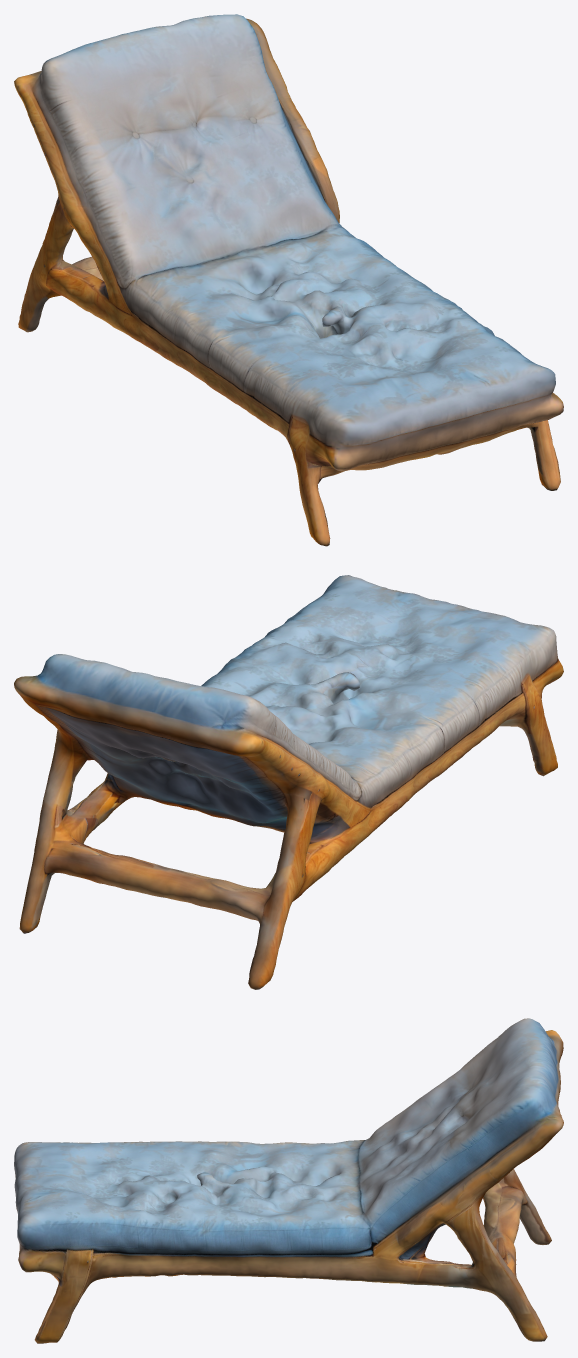
Rendered from a_beautiful_calm_sun_lounger_0714051525_refine.glb.
3 renders of one model, top to bottom at view 1: azimuth 30°, elevation 25°; view 2: azimuth 150°, elevation 25°; view 3: azimuth 270°, elevation 25°, orthographic. The views are drawn at different scales.
Size of the model in its own units: 0.5541 by 0.5716 by 1.2.
1 material, 1 textured.
